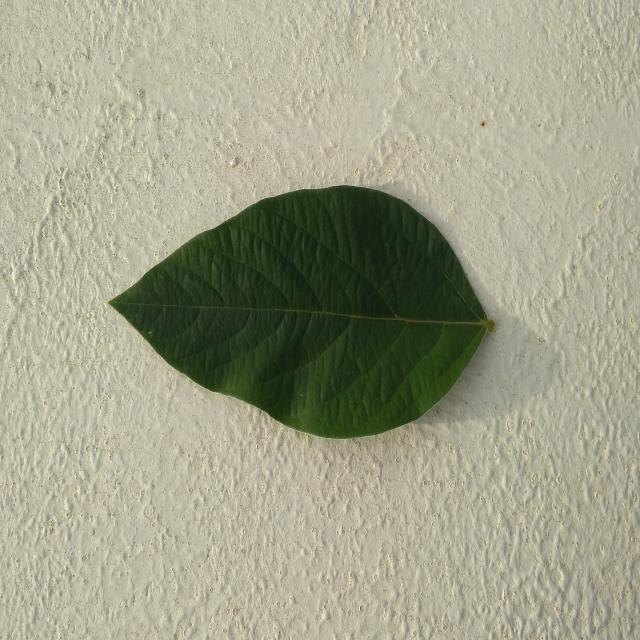pea: (110, 187, 494, 438)
